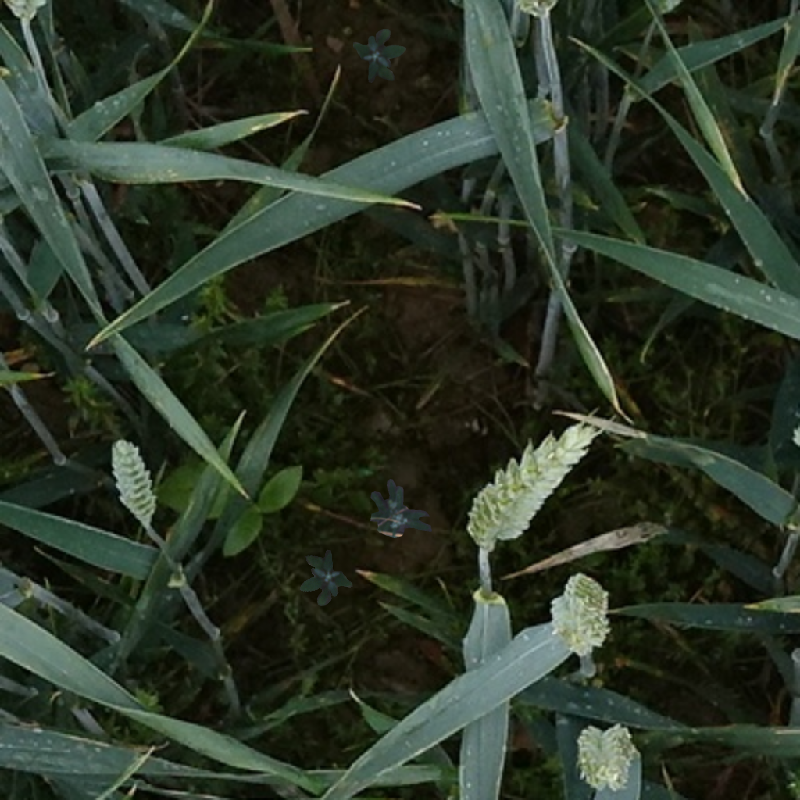spikelet: (464, 410, 608, 547), (550, 573, 608, 658), (106, 441, 157, 526), (573, 720, 632, 788)
weed: (293, 546, 355, 610), (370, 479, 432, 538), (353, 29, 406, 83)
